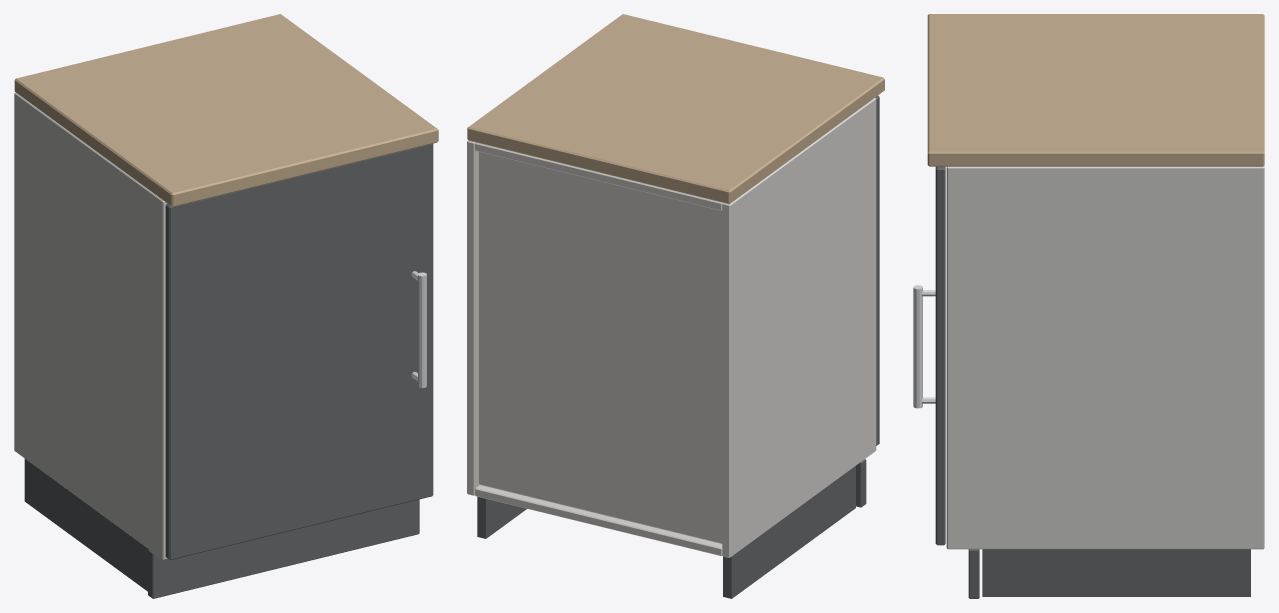
File: kit_base_graphite.glb
The picture shows the model from 3 angles, left to right: view 1: azimuth 30°, elevation 25°; view 2: azimuth 150°, elevation 25°; view 3: azimuth 270°, elevation 25°; orthographic projection. The views are drawn at different scales.
Visible parts, largest first — view 1: base-600-graphite, door-left/dark, door-left/metal; view 2: base-600-graphite, door-left/dark; view 3: base-600-graphite, door-left/dark, door-left/metal.
Boxes of the visible parts, x1=… form: base-600-graphite: x1=14, y1=14, x2=438, y2=598; door-left/dark: x1=165, y1=143, x2=433, y2=560; door-left/metal: x1=411, y1=271, x2=426, y2=388; base-600-graphite: x1=467, y1=14, x2=884, y2=598; door-left/dark: x1=875, y1=95, x2=879, y2=445; base-600-graphite: x1=927, y1=14, x2=1264, y2=598; door-left/dark: x1=935, y1=166, x2=945, y2=545; door-left/metal: x1=913, y1=285, x2=935, y2=408.
Size of the model in its own units: 0.6001 by 0.9 by 0.641.
